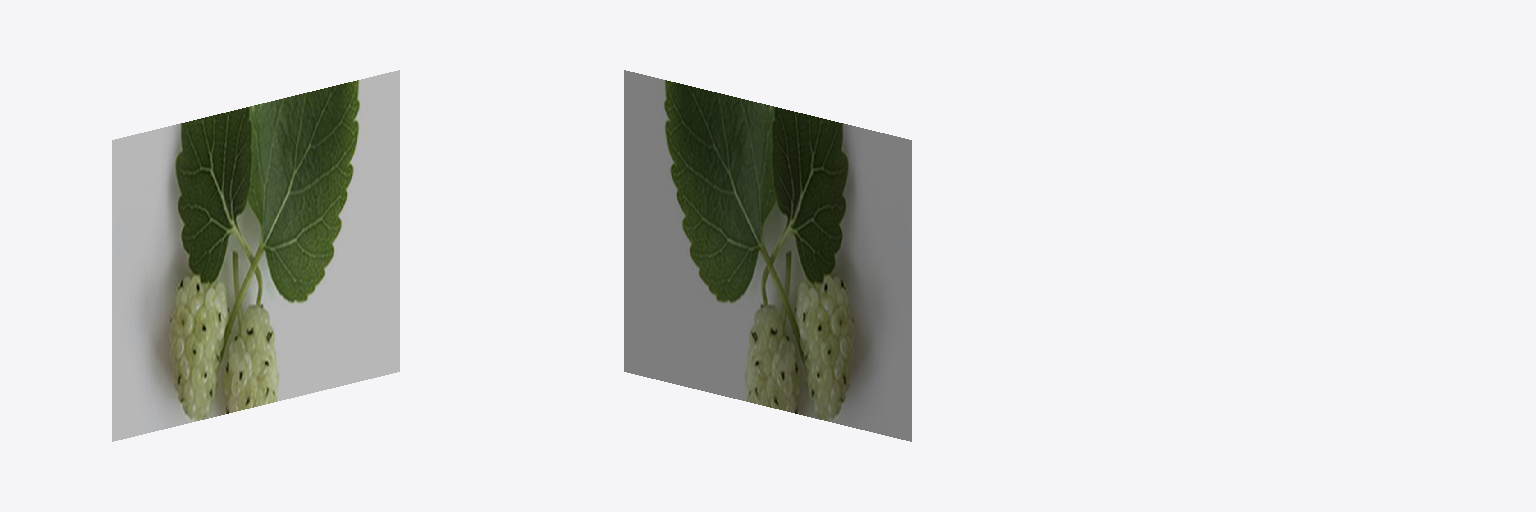
3 renders of one model, left to right at view 1: azimuth 30°, elevation 25°; view 2: azimuth 150°, elevation 25°; view 3: azimuth 270°, elevation 25°, orthographic.
Parts seen in each view (by area): view 1: Mesh_Camera; view 2: Mesh_Camera; view 3: none.
Part boxes in pixels (x1,y1,x2,y2): Mesh_Camera: (112,70,399,441); Mesh_Camera: (624,70,911,441).
Bounding box in the file's own units: 2 × 2 × 0.
1 materials, 1 textured.